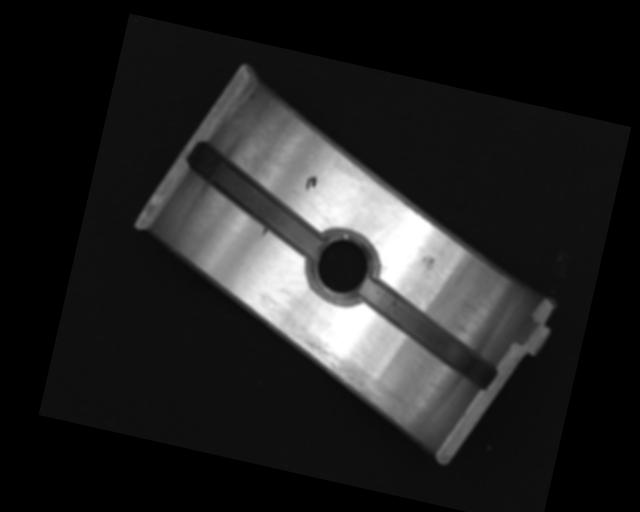blot: (304, 173, 319, 195)
bruise: (418, 253, 436, 274), (260, 225, 270, 239)
gap: (176, 142, 337, 258), (346, 280, 507, 390)
hole: (302, 224, 383, 311)
scratch: (268, 325, 431, 431)
